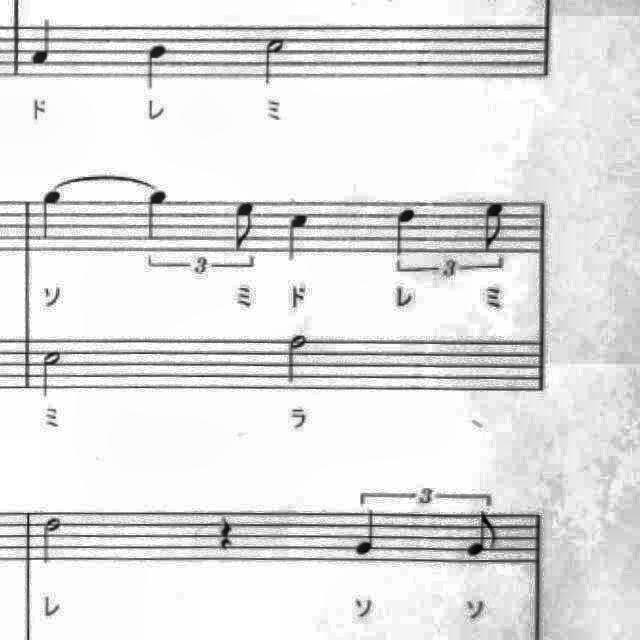Eighth-note: (462, 510, 506, 566), (225, 192, 263, 255), (476, 196, 514, 258)
Half-note: (257, 31, 295, 94), (34, 344, 68, 404), (279, 328, 313, 388), (36, 511, 68, 569)
Quarter-note: (278, 207, 318, 271), (136, 38, 176, 98), (347, 504, 387, 562), (33, 186, 71, 247), (386, 202, 424, 262), (24, 12, 62, 72), (142, 186, 178, 247)
Quarter-rest: (211, 510, 241, 558)
